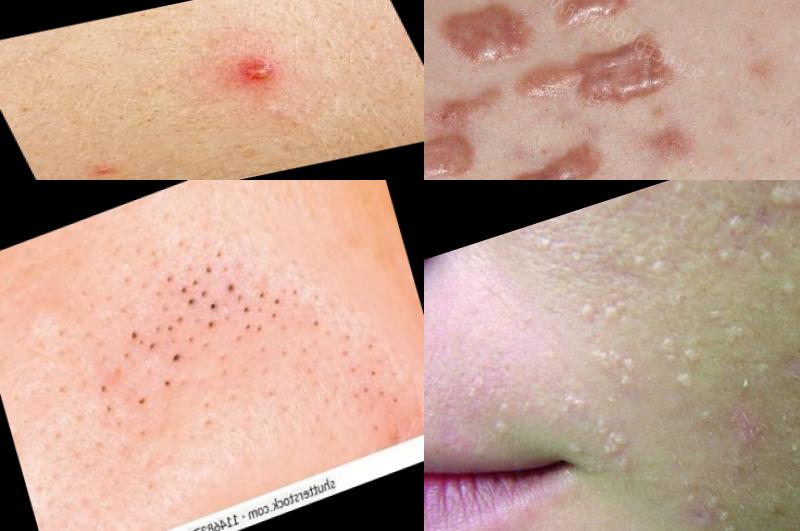acne_scars: (710, 401, 764, 461), (668, 492, 722, 531)
blackhead: (321, 314, 414, 453), (229, 268, 293, 341), (283, 287, 348, 356), (150, 256, 217, 318), (110, 310, 172, 369), (78, 370, 133, 429), (127, 368, 187, 420), (161, 296, 215, 352), (189, 233, 242, 287), (202, 293, 240, 335), (168, 343, 190, 370)
flat_wart: (645, 323, 709, 398), (572, 285, 639, 342), (475, 411, 537, 457), (633, 234, 685, 288), (592, 340, 638, 398), (519, 228, 568, 270), (454, 361, 492, 407), (718, 206, 755, 245), (720, 181, 777, 193)
keloid: (509, 21, 686, 139), (433, 1, 539, 80), (488, 133, 623, 181), (541, 1, 694, 41), (425, 123, 484, 181)
milium: (591, 414, 643, 485), (762, 181, 800, 219)
papular: (217, 44, 298, 101)
